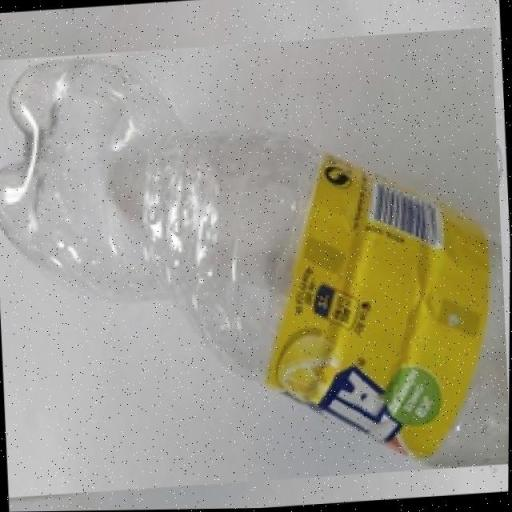plastic: (0, 28, 512, 498)
